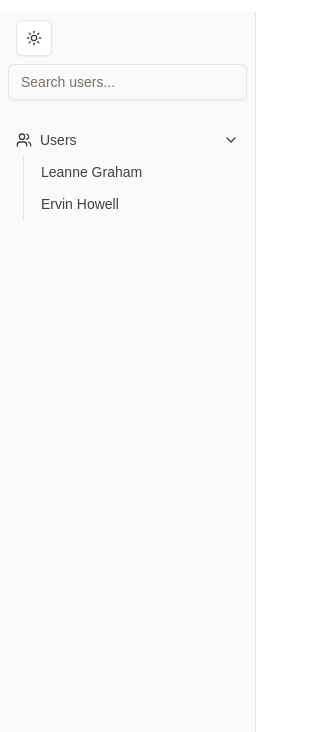
Test case: AppSidebar › expands and collapses the Users menu
Expected: the text "Leanne Graham" is shown, [41,162,142,182]
What coordinates should you click on to do the following:
click the button "Users"
I would click on:
 (128, 140)
Its box is [8,124,247,156].
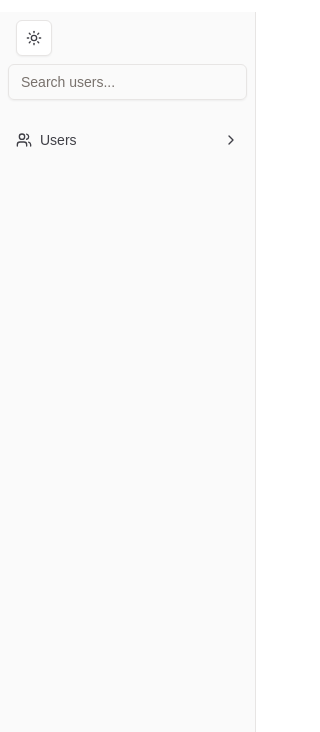
Expected: the link "Leanne Graham" is gone
